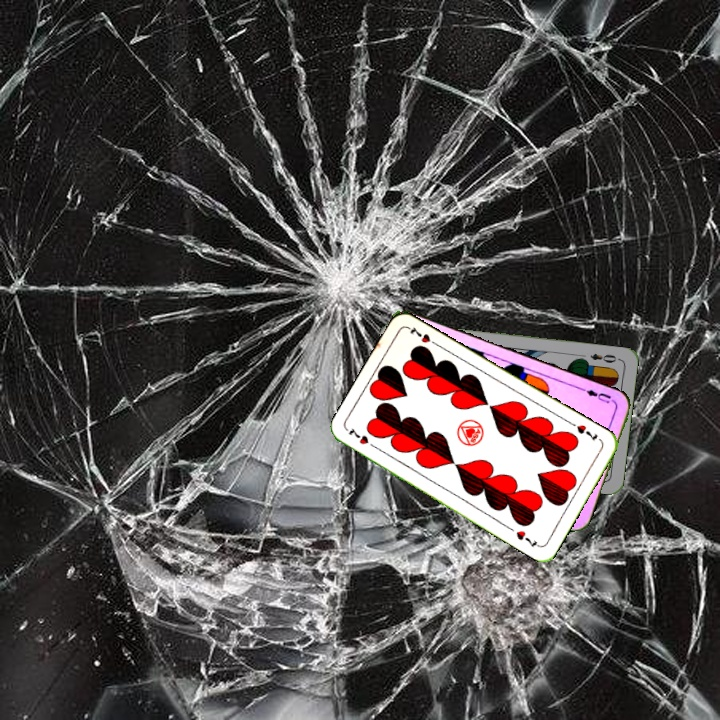EO: (586, 349, 622, 365)
EU: (579, 384, 618, 406)
H7: (343, 424, 380, 452), (572, 421, 600, 444)
